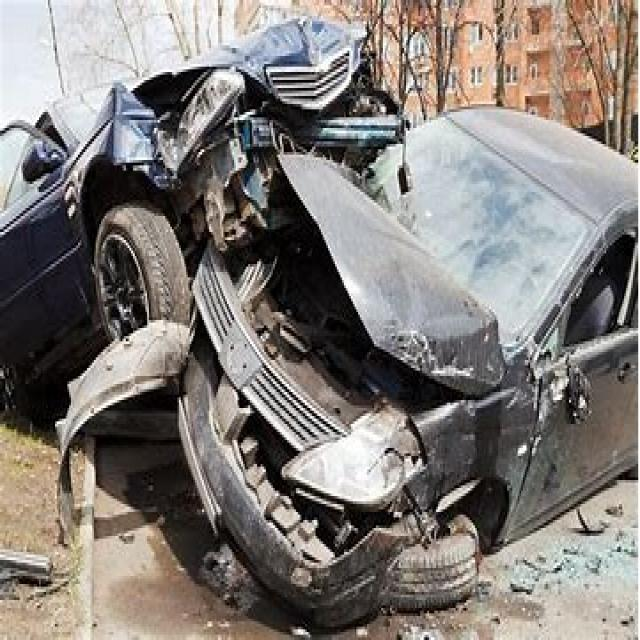Accident: (51, 25, 564, 602)
